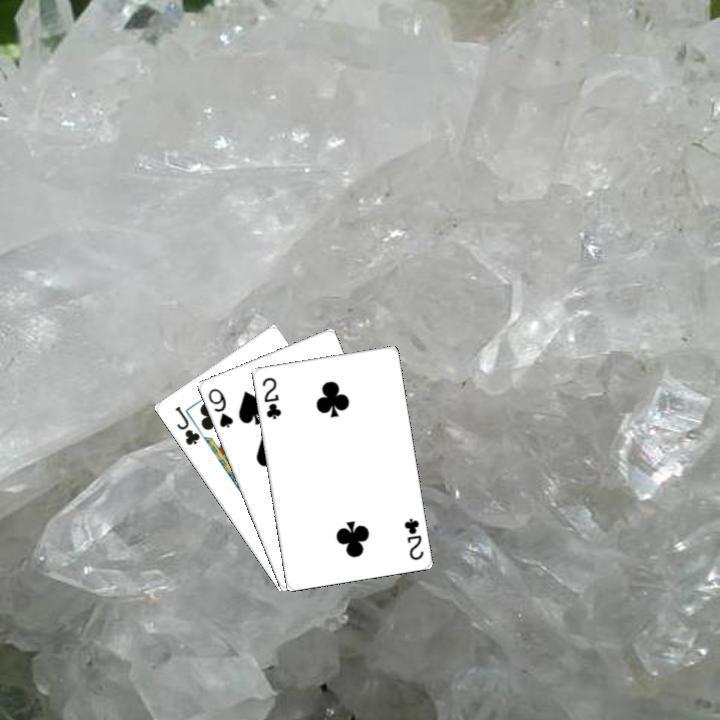2: (257, 372, 283, 421), (399, 513, 425, 562)
9: (203, 383, 235, 430)
J: (170, 401, 202, 447)
